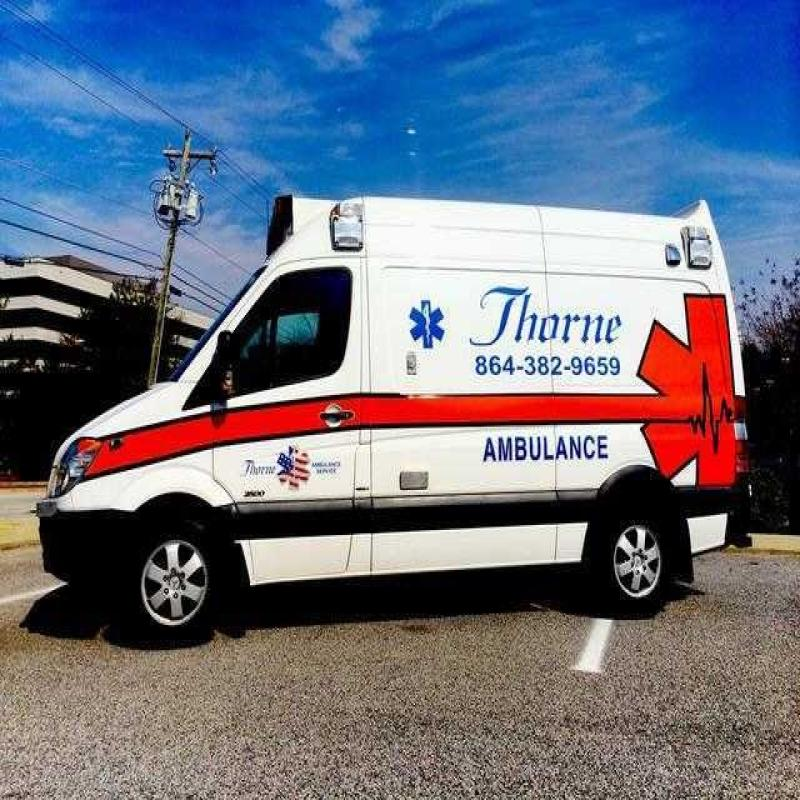AmbulanceSiren: (668, 224, 720, 306), (329, 193, 364, 266)
